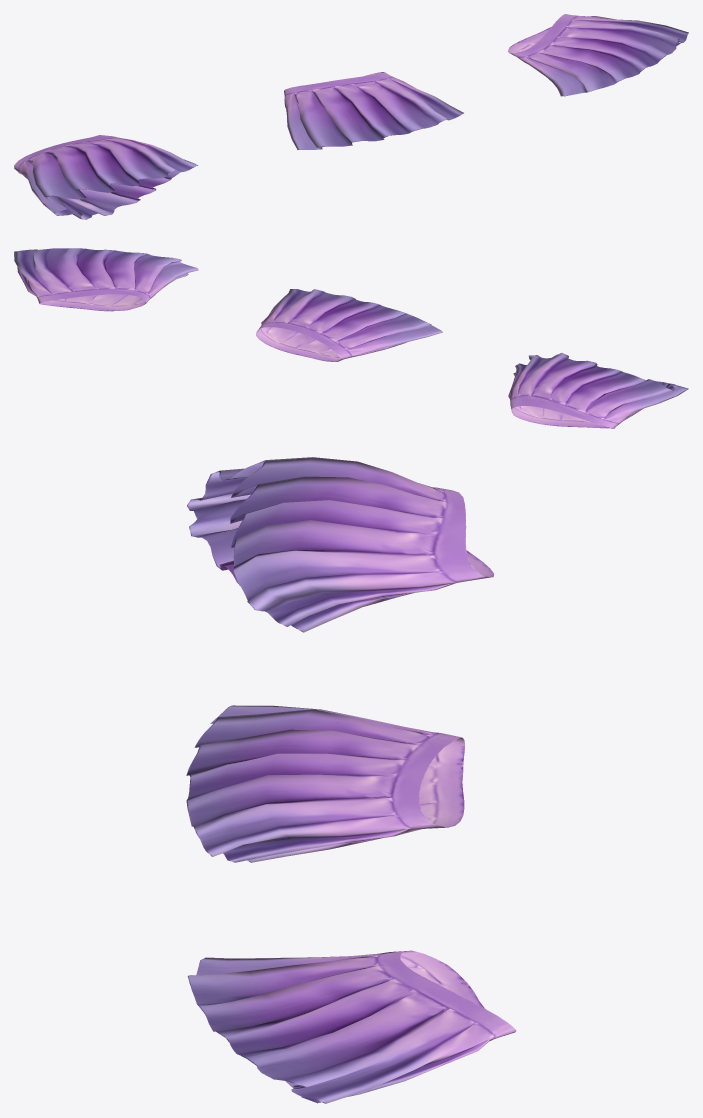
Rendered from ShortSkirt.FBX.
3 renders of one model, top to bottom at view 1: azimuth 30°, elevation 25°; view 2: azimuth 150°, elevation 25°; view 3: azimuth 270°, elevation 25°, orthographic. The views are drawn at different scales.
Visible parts, largest first — view 1: skirt (×3); view 2: skirt (×3); view 3: skirt (×3).
Boxes of the visible parts, x1,y1,x2,y2 form: skirt (×3): (14, 14, 688, 219); skirt (×3): (14, 248, 688, 428); skirt (×3): (186, 457, 516, 1103).
Bounding box in the file's own units: 3.46 × 0.132 × 0.7638.
